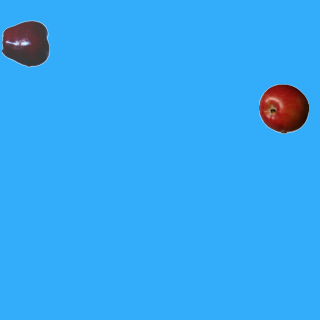Apple Braeburn: (258, 83, 308, 133)
Apple Red Delicious: (1, 18, 51, 68)
